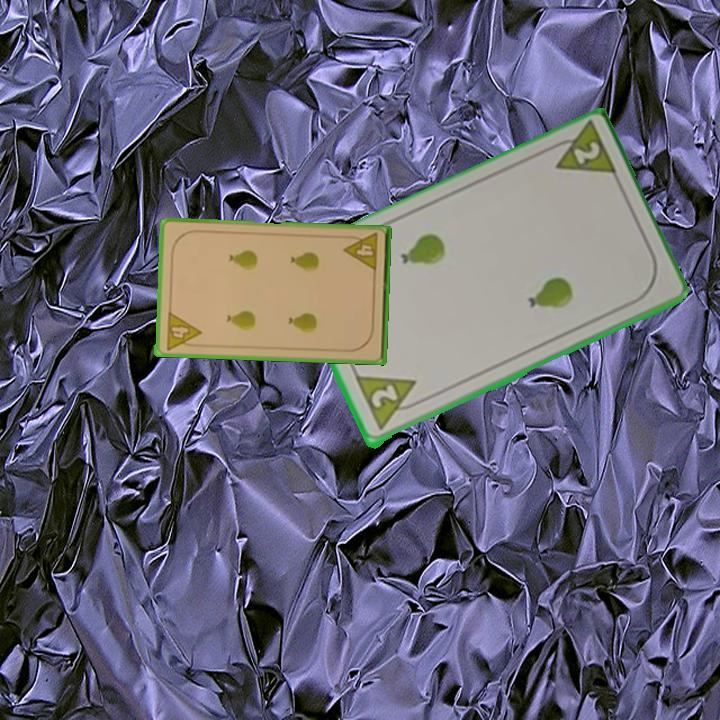2p: (542, 120, 621, 181), (352, 372, 427, 434)
4p: (162, 308, 203, 353), (341, 230, 381, 274)
